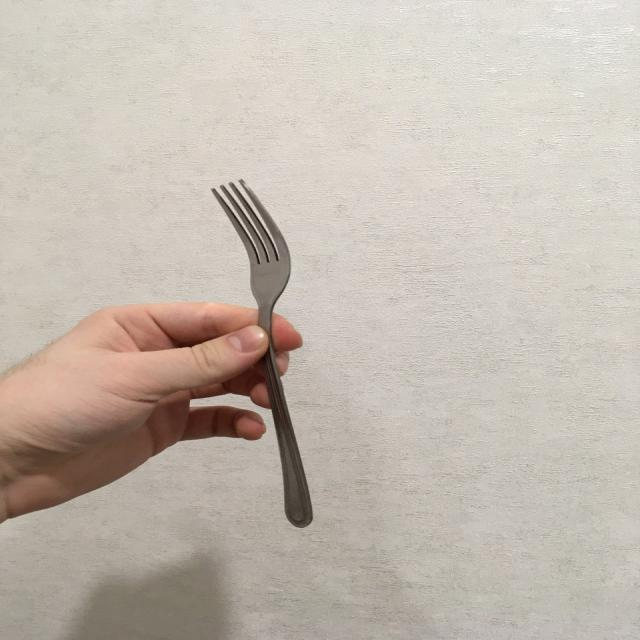fork: (206, 178, 314, 528)
